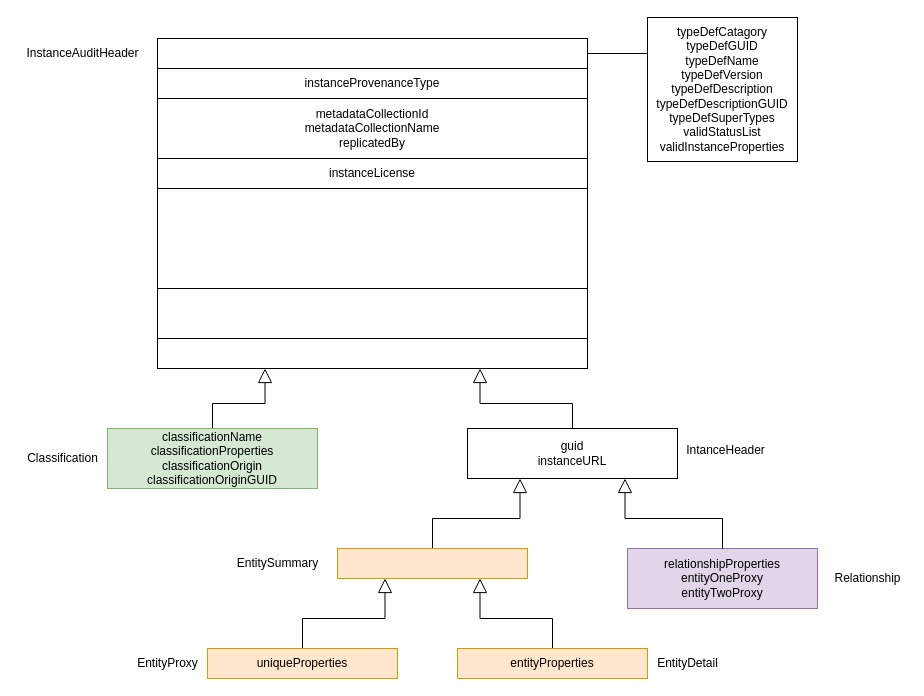
Some shapes in this 924 by 696 pixel diagram are drawn without their labels. The shapes that lost their labels are listed below. From the top down, each one's centre as x and y in pixels, then its label:
[372,53]: type
[372,238]: createdBy updatedBy maintainedBy createTime updateTime version
[372,313]: currentStatus statusOnDelete
[372,353]: mappingProperties
[432,563]: classifications
